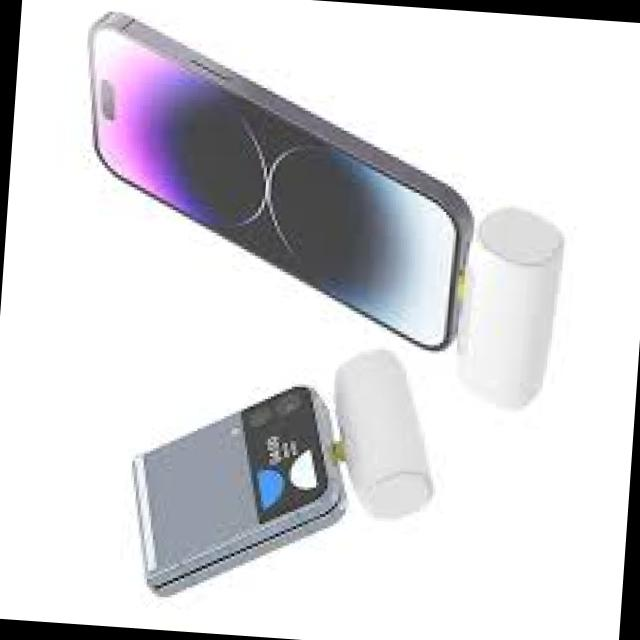portable-charger: (446, 202, 572, 414), (323, 340, 446, 522)
